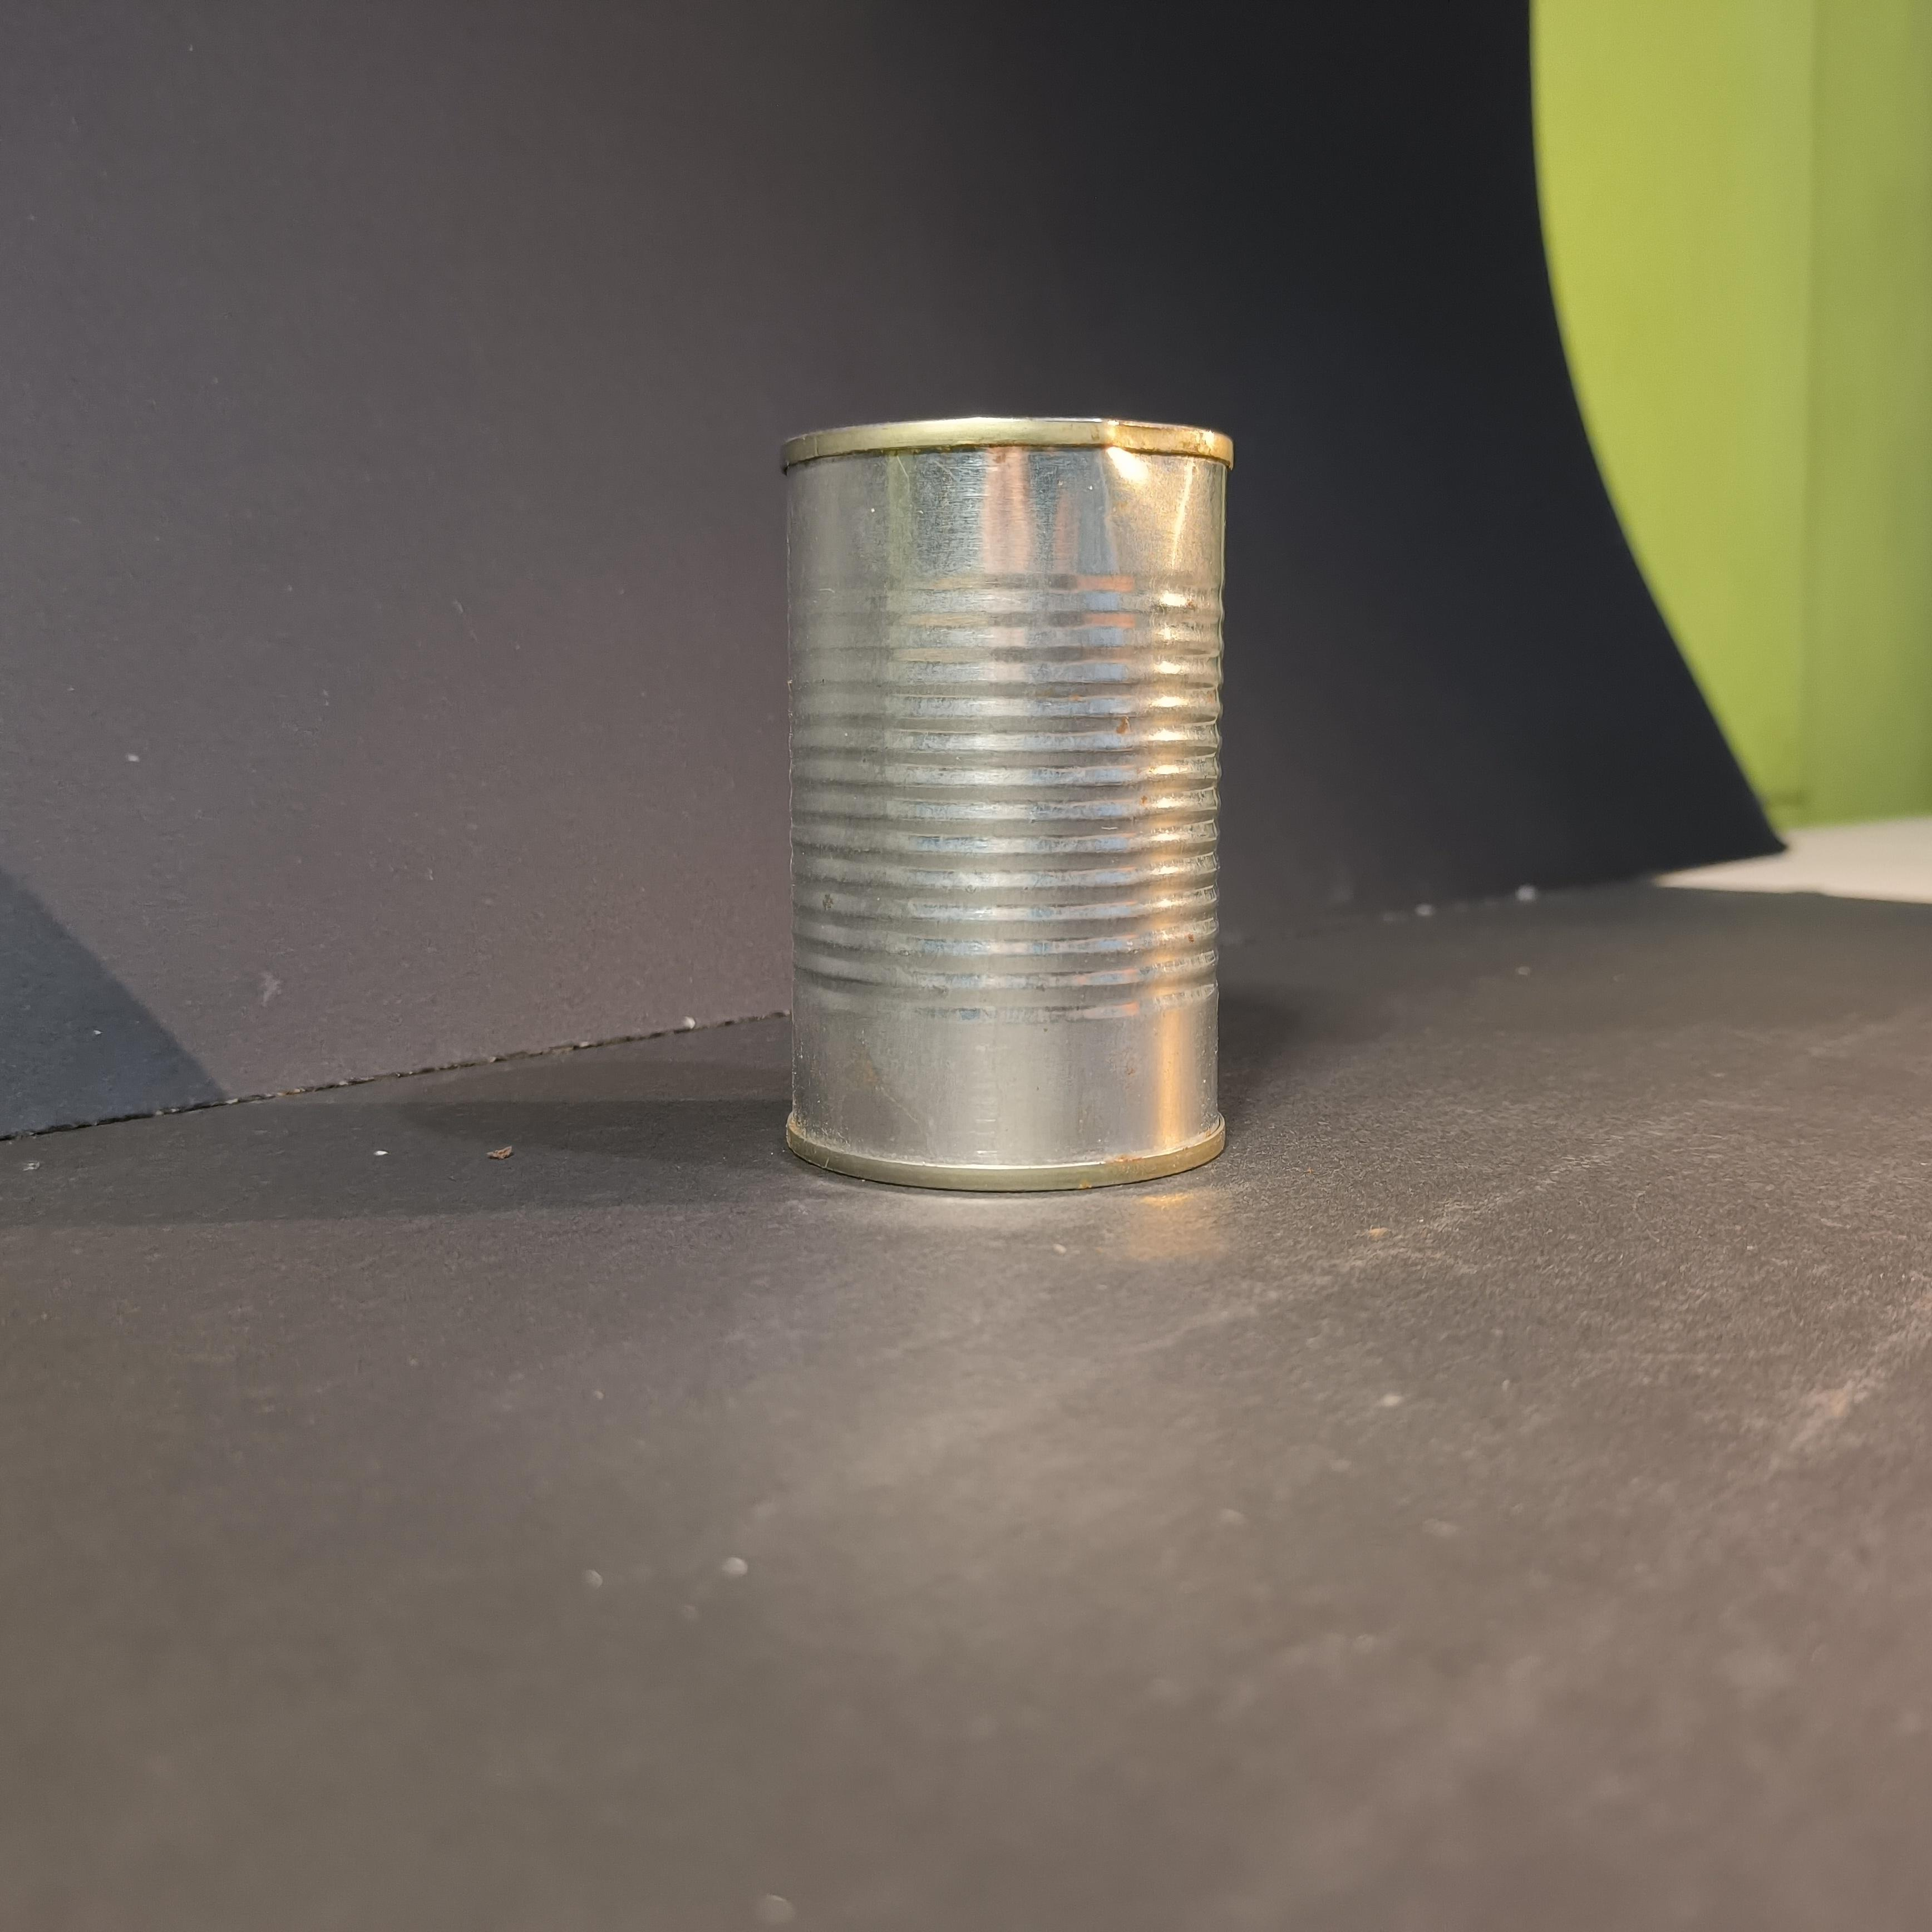Dented: (763, 407, 1240, 1191)
